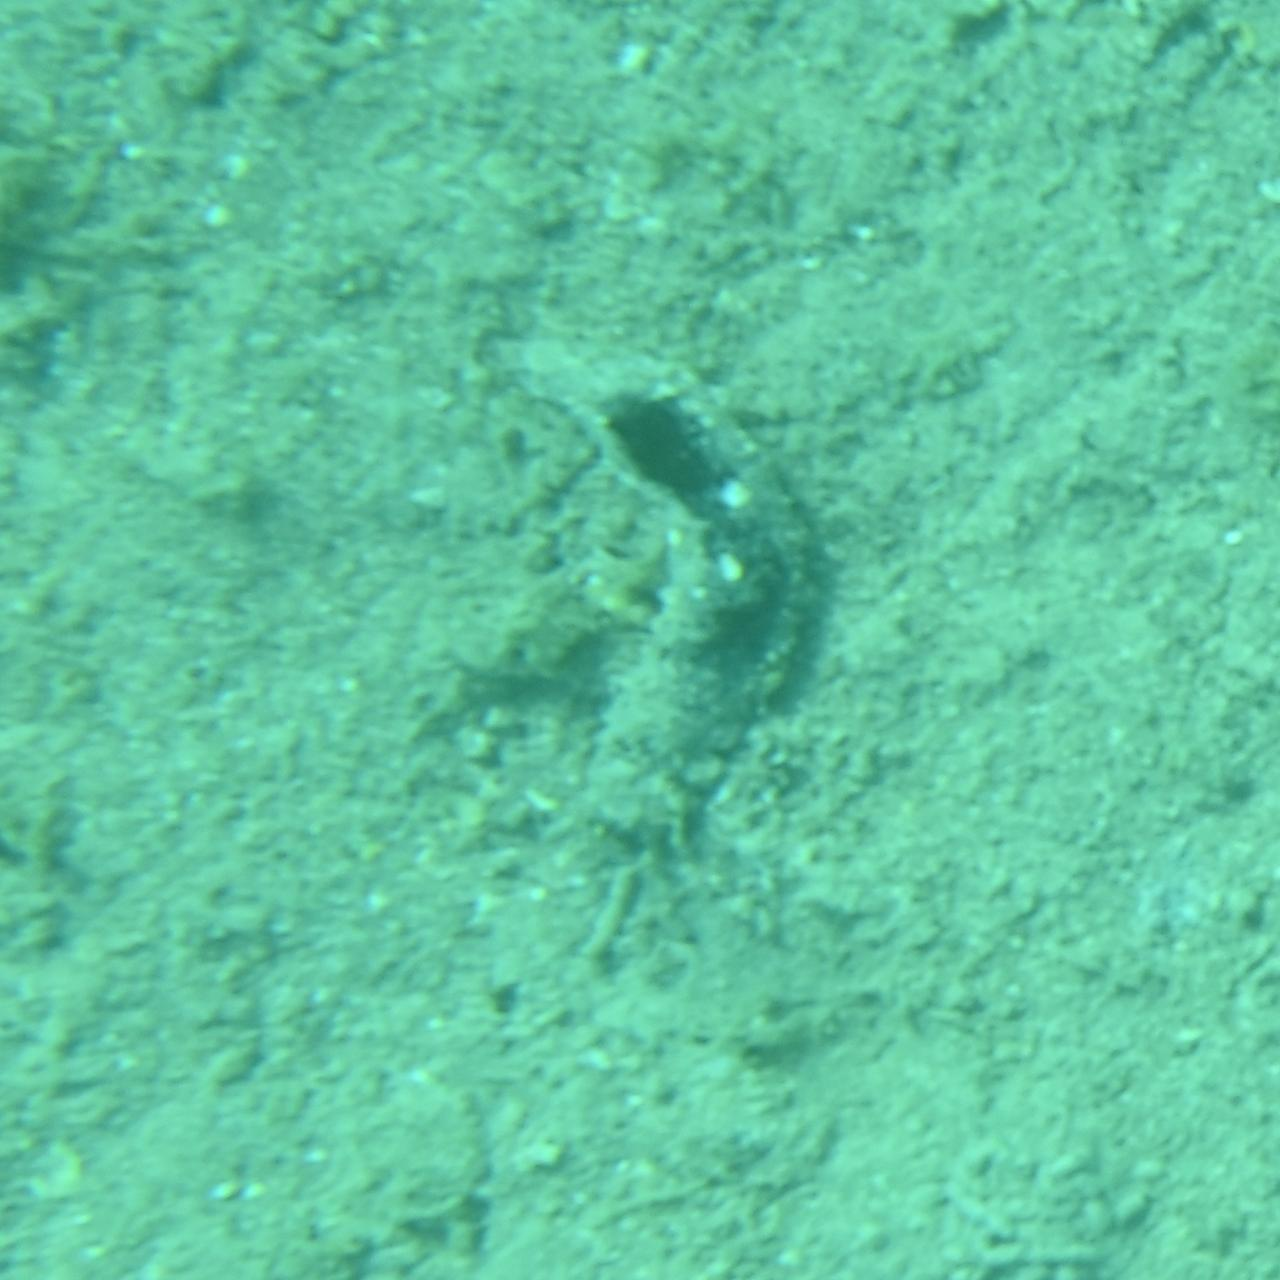Holothuria tubulosa: (437, 322, 843, 958)
